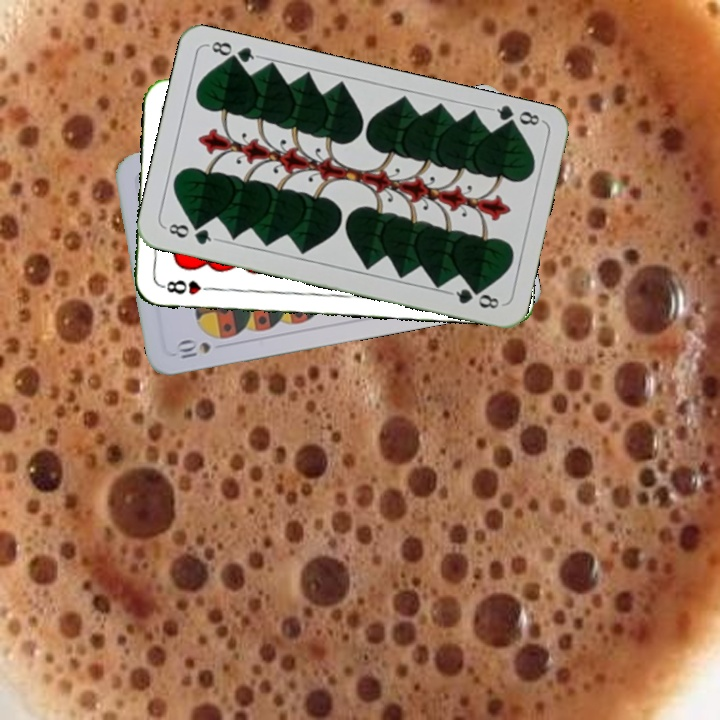G8: (486, 102, 545, 133), (161, 219, 220, 248)
H8: (158, 276, 217, 297)
S10: (172, 336, 213, 362)
